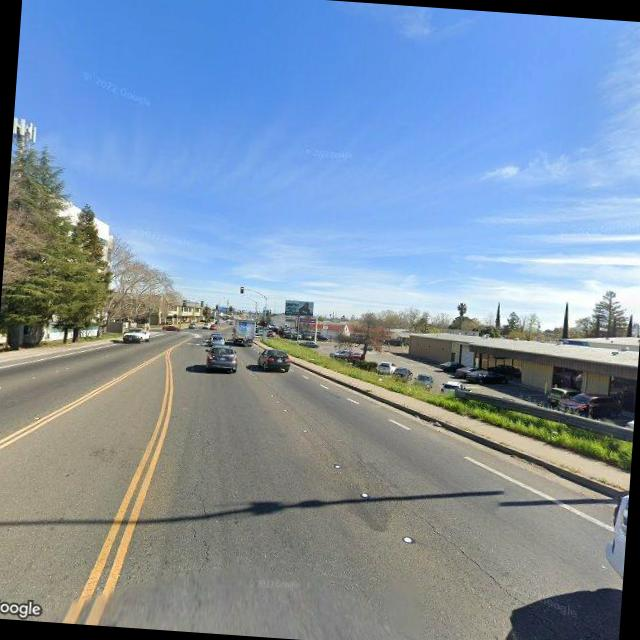pothole: (354, 464, 564, 628), (178, 452, 222, 578)
